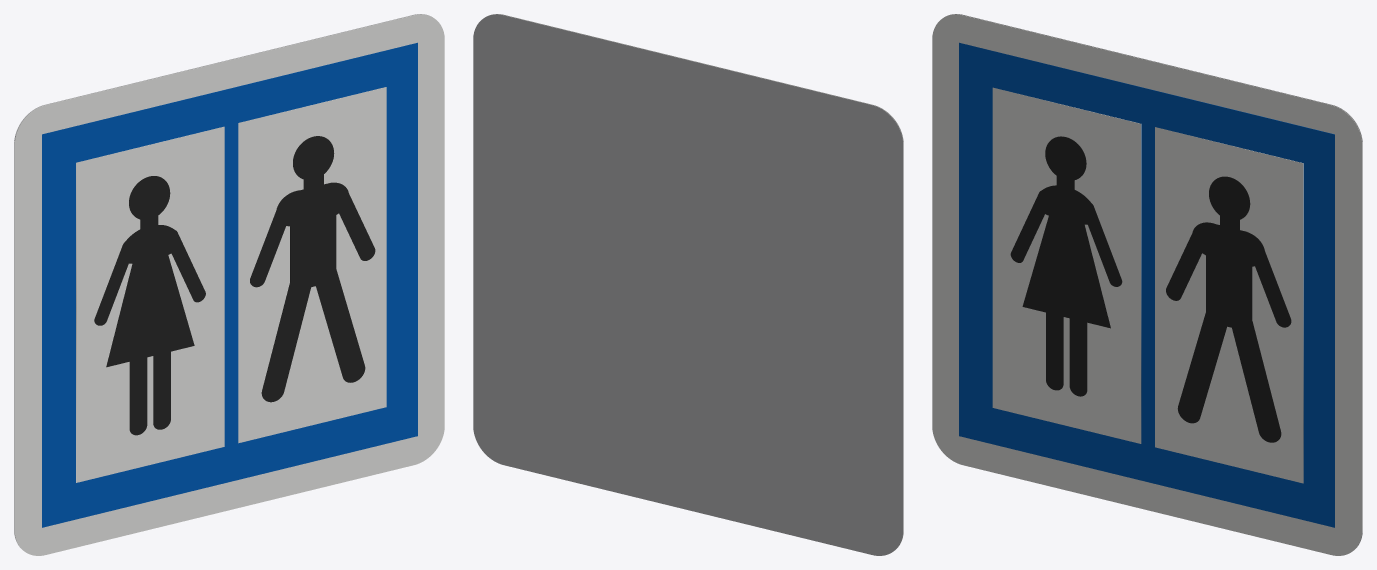
3 views of the same model, side by side, from view 1: azimuth 30°, elevation 25°; view 2: azimuth 150°, elevation 25°; view 3: azimuth 330°, elevation 25° (orthographic).
Visible parts, largest first — view 1: CE12_p01, CE12_p00, CE12_p03, CE12_p02, CE12_p05, CE12_p04, CE12_dos; view 2: CE12_dos, CE12_p00; view 3: CE12_p01, CE12_p00, CE12_p03, CE12_p02, CE12_p05, CE12_p04, CE12_dos.
Boxes of the visible parts, x1,y1,x2,y2 form: CE12_p01: [42, 42, 417, 527]; CE12_p00: [14, 14, 444, 555]; CE12_p03: [76, 126, 224, 482]; CE12_p02: [238, 87, 386, 443]; CE12_p05: [250, 136, 375, 402]; CE12_p04: [94, 176, 205, 435]; CE12_dos: [14, 14, 431, 547]; CE12_dos: [473, 14, 903, 555]; CE12_p00: [486, 14, 903, 547]; CE12_p01: [959, 42, 1334, 527]; CE12_p00: [932, 14, 1362, 555]; CE12_p03: [992, 87, 1141, 443]; CE12_p02: [1155, 127, 1303, 483]; CE12_p05: [1166, 176, 1291, 442]; CE12_p04: [1010, 136, 1122, 396]; CE12_dos: [945, 14, 1362, 547].
Bounding box in the file's own units: 0.7 × 0.6999 × 0.0039.
